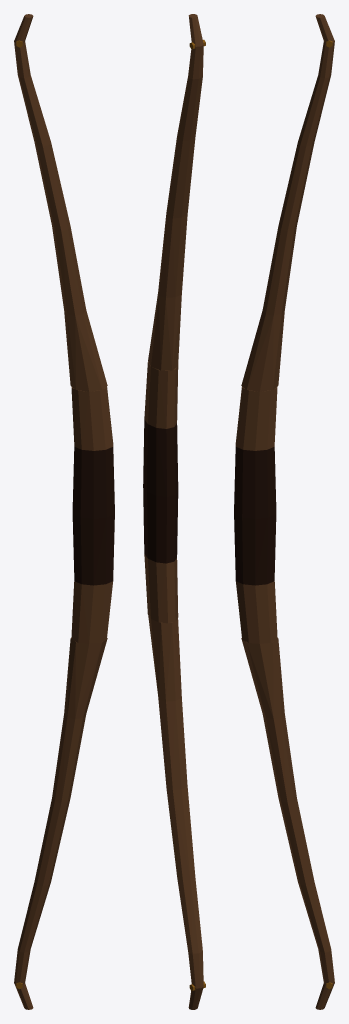
File: Bow.obj
The picture shows the model from 3 angles, left to right: view 1: azimuth 90°, elevation 25°; view 2: azimuth 210°, elevation 25°; view 3: azimuth 270°, elevation 25°; orthographic projection.
Visible parts, largest first — view 1: Wood, Leather; view 2: Wood, Leather; view 3: Wood, Leather.
Part boxes in pixels (x1,y1,x2,y2): Wood: (14, 14, 113, 1009); Leather: (72, 447, 114, 585); Wood: (144, 14, 203, 1009); Leather: (143, 419, 178, 563); Wood: (235, 14, 334, 1009); Leather: (234, 447, 276, 585).
Size of the model in its own units: 0.034 by 1.18 by 0.1088.
